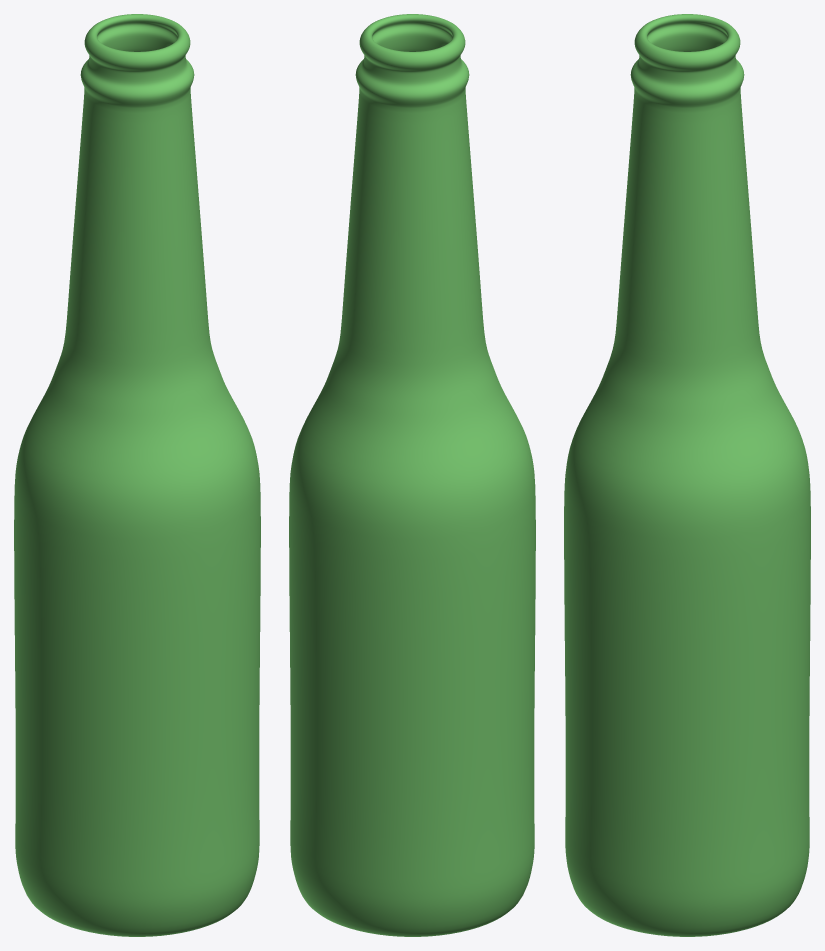
Rendered from bottle.fbx.
The picture shows the model from 3 angles, left to right: view 1: azimuth 30°, elevation 25°; view 2: azimuth 150°, elevation 25°; view 3: azimuth 270°, elevation 25°; orthographic projection.
Visible parts, largest first — view 1: Circle; view 2: Circle; view 3: Circle.
Part boxes in pixels (x1,y1,x2,y2): Circle: (14, 14, 260, 936); Circle: (289, 14, 535, 936); Circle: (564, 14, 810, 936).
Size of the model in its own units: 94.85 by 364 by 94.85.
